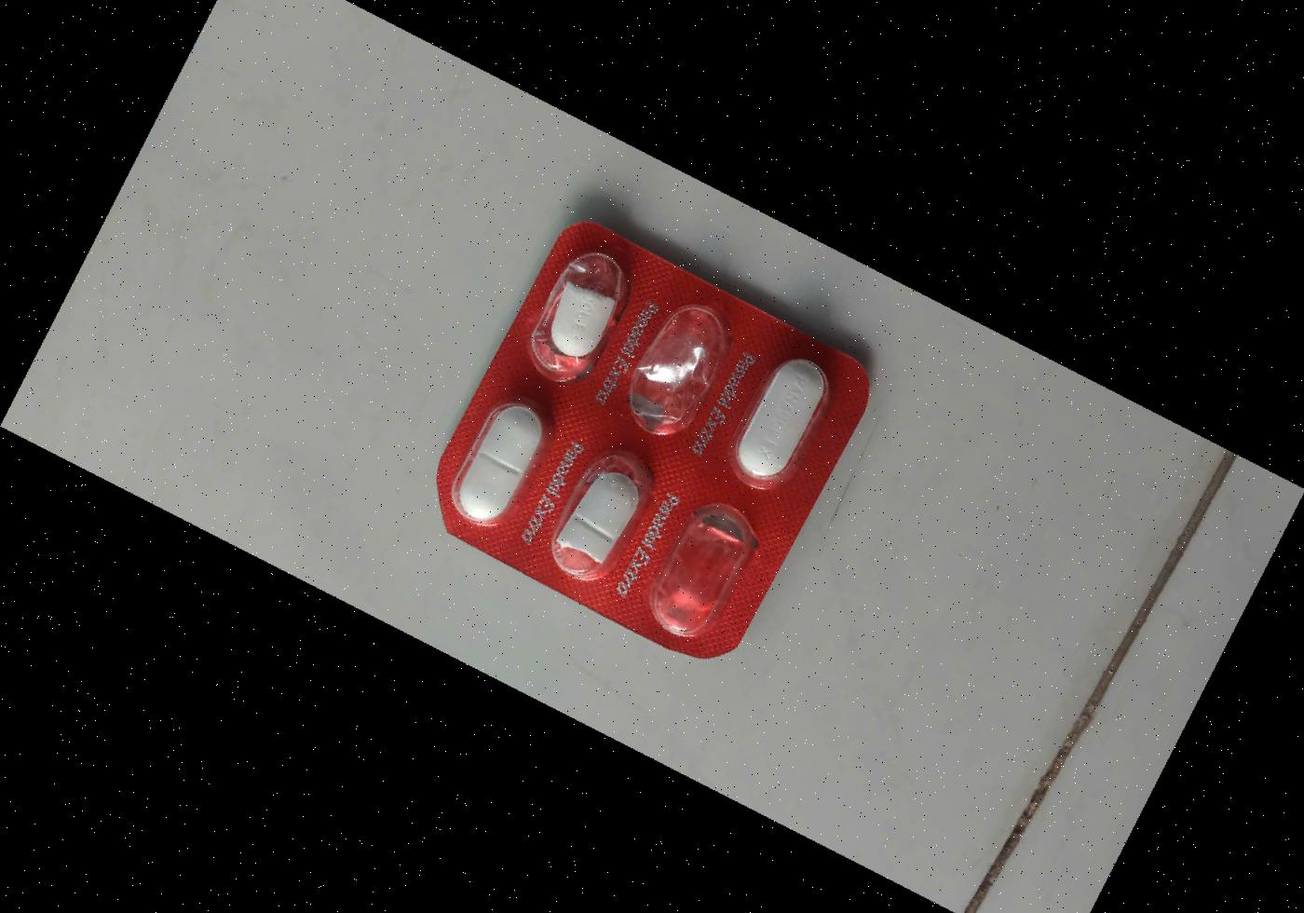Empty: (634, 483, 775, 653), (605, 282, 746, 452)
Full: (431, 378, 570, 544), (710, 336, 849, 502)
Partial: (526, 433, 668, 603), (506, 230, 647, 399)
